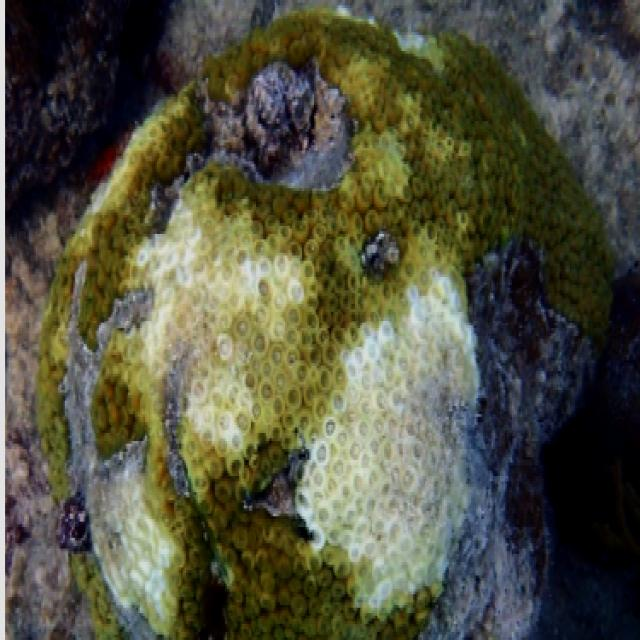Coral: (36, 5, 618, 640)
